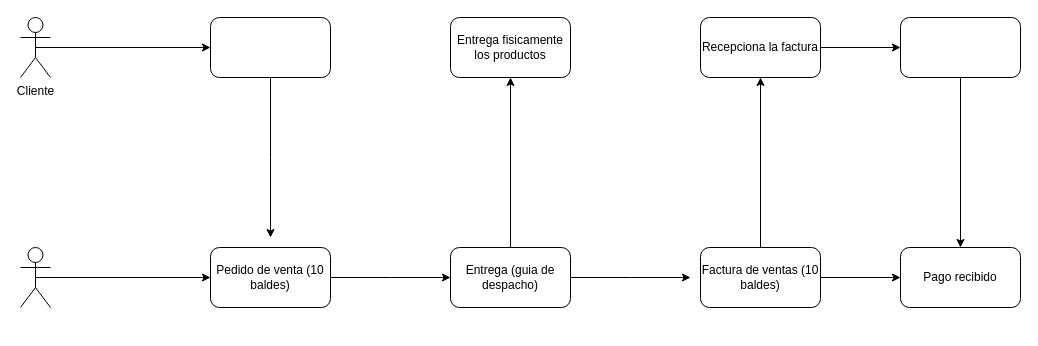
Some shapes in this 1038 by 346 pixel diagram are drawn without their labels. Here are the shapes that lost their labels. From the top down, the box of each, then its label:
(210, 16, 330, 78): Quiero comprar 10 baldes
(900, 16, 1020, 78): Pagar la factura
(20, 246, 50, 308): BASA
